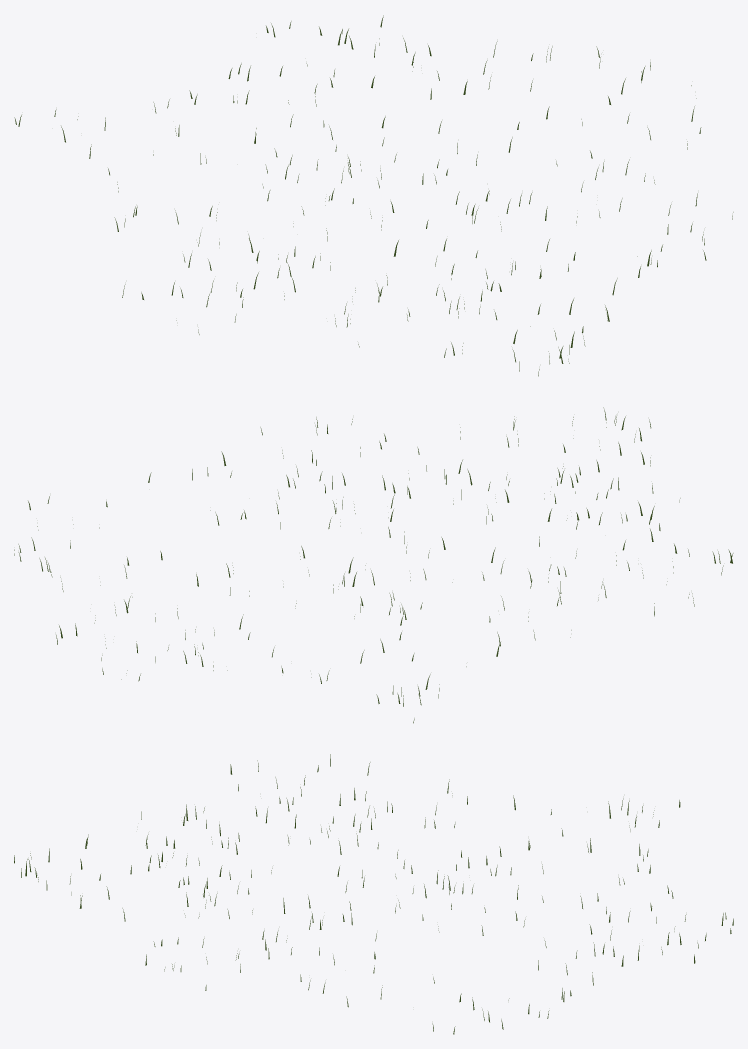
The picture shows the model from 3 angles, top to bottom: view 1: azimuth 30°, elevation 25°; view 2: azimuth 150°, elevation 25°; view 3: azimuth 270°, elevation 25°; orthographic projection. The views are drawn at different scales.
Parts seen in each view (by area): view 1: GrassPatch; view 2: GrassPatch; view 3: GrassPatch.
Boxes of the visible parts, x1,y1,x2,y2 form: GrassPatch: (14, 15, 733, 376); GrassPatch: (14, 407, 733, 723); GrassPatch: (14, 754, 733, 1034).
Size of the model in its own units: 17.12 by 0.4919 by 19.38.
